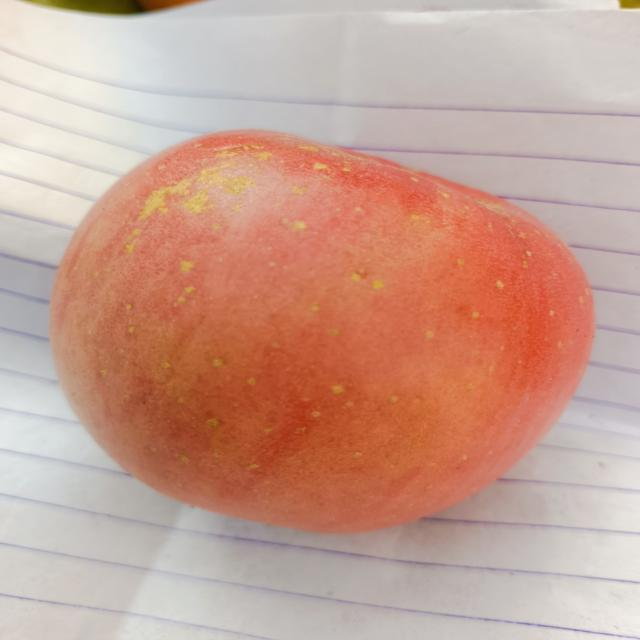Fresh Apple: (62, 133, 588, 532)
